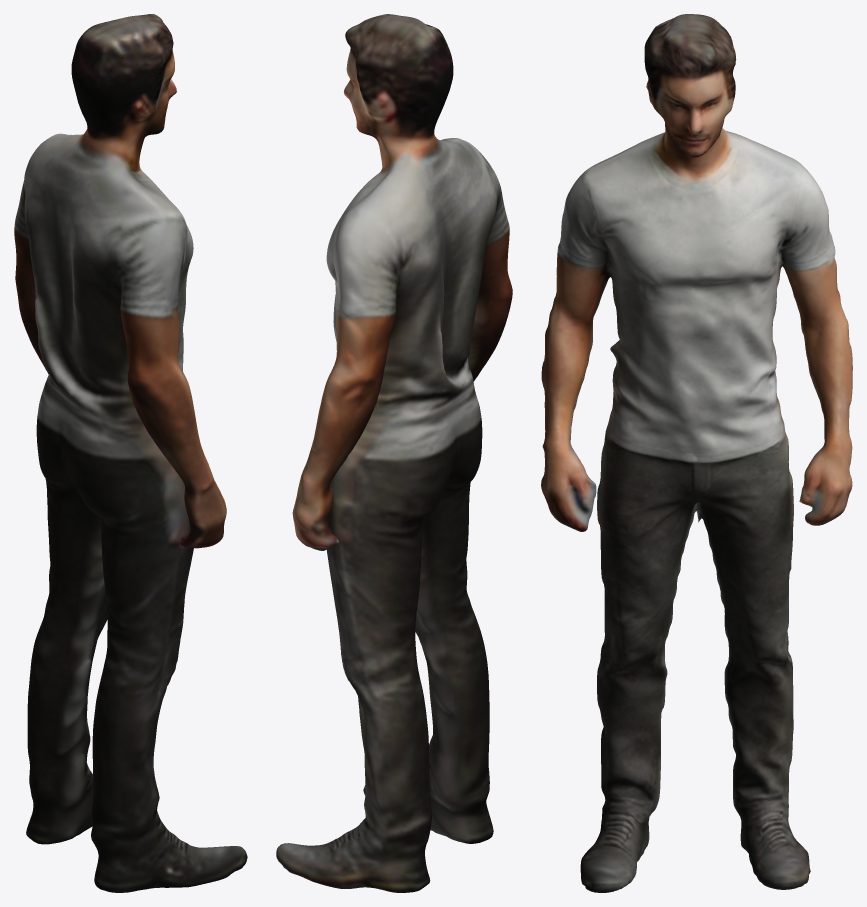
The model's file is human_relaxed.glb.
3 renders of one model, left to right at view 1: azimuth 30°, elevation 25°; view 2: azimuth 150°, elevation 25°; view 3: azimuth 270°, elevation 25°, orthographic.
Parts seen in each view (by area): view 1: tripo_node_89915467-d037-4199-a849-c73e419c08a4; view 2: tripo_node_89915467-d037-4199-a849-c73e419c08a4; view 3: tripo_node_89915467-d037-4199-a849-c73e419c08a4.
Boxes of the visible parts, x1,y1,x2,y2 form: tripo_node_89915467-d037-4199-a849-c73e419c08a4: (14, 14, 247, 892); tripo_node_89915467-d037-4199-a849-c73e419c08a4: (276, 14, 512, 892); tripo_node_89915467-d037-4199-a849-c73e419c08a4: (541, 14, 852, 892).
Bounding box in the file's own units: 0.1821 × 1 × 0.3366.
1 material, 1 textured.
